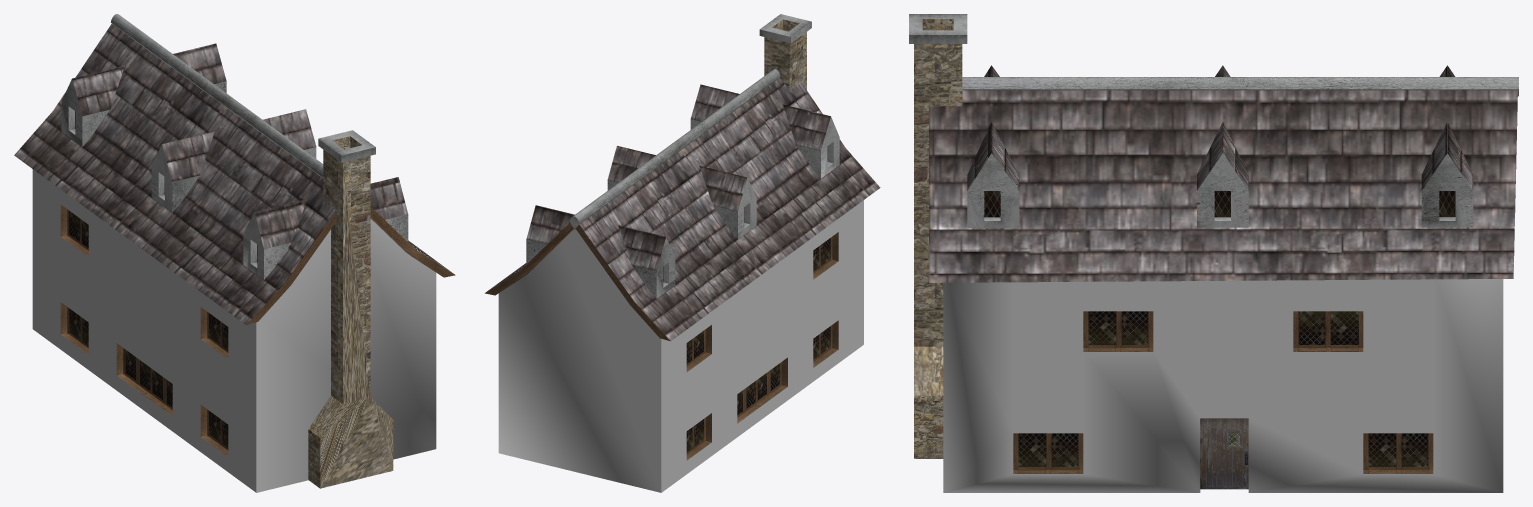
The model's file is Home.fbx.
The picture shows the model from 3 angles, left to right: view 1: azimuth 30°, elevation 25°; view 2: azimuth 150°, elevation 25°; view 3: azimuth 270°, elevation 25°; orthographic projection. The views are drawn at different scales.
Visible parts, largest first — view 1: Home; view 2: Home; view 3: Home.
Boxes of the visible parts, box(x1,y1,x2,y2) form: Home: box(14, 14, 455, 492); Home: box(485, 14, 880, 492); Home: box(909, 14, 1518, 492).
Size of the model in its own units: 620 by 940 by 1259.
